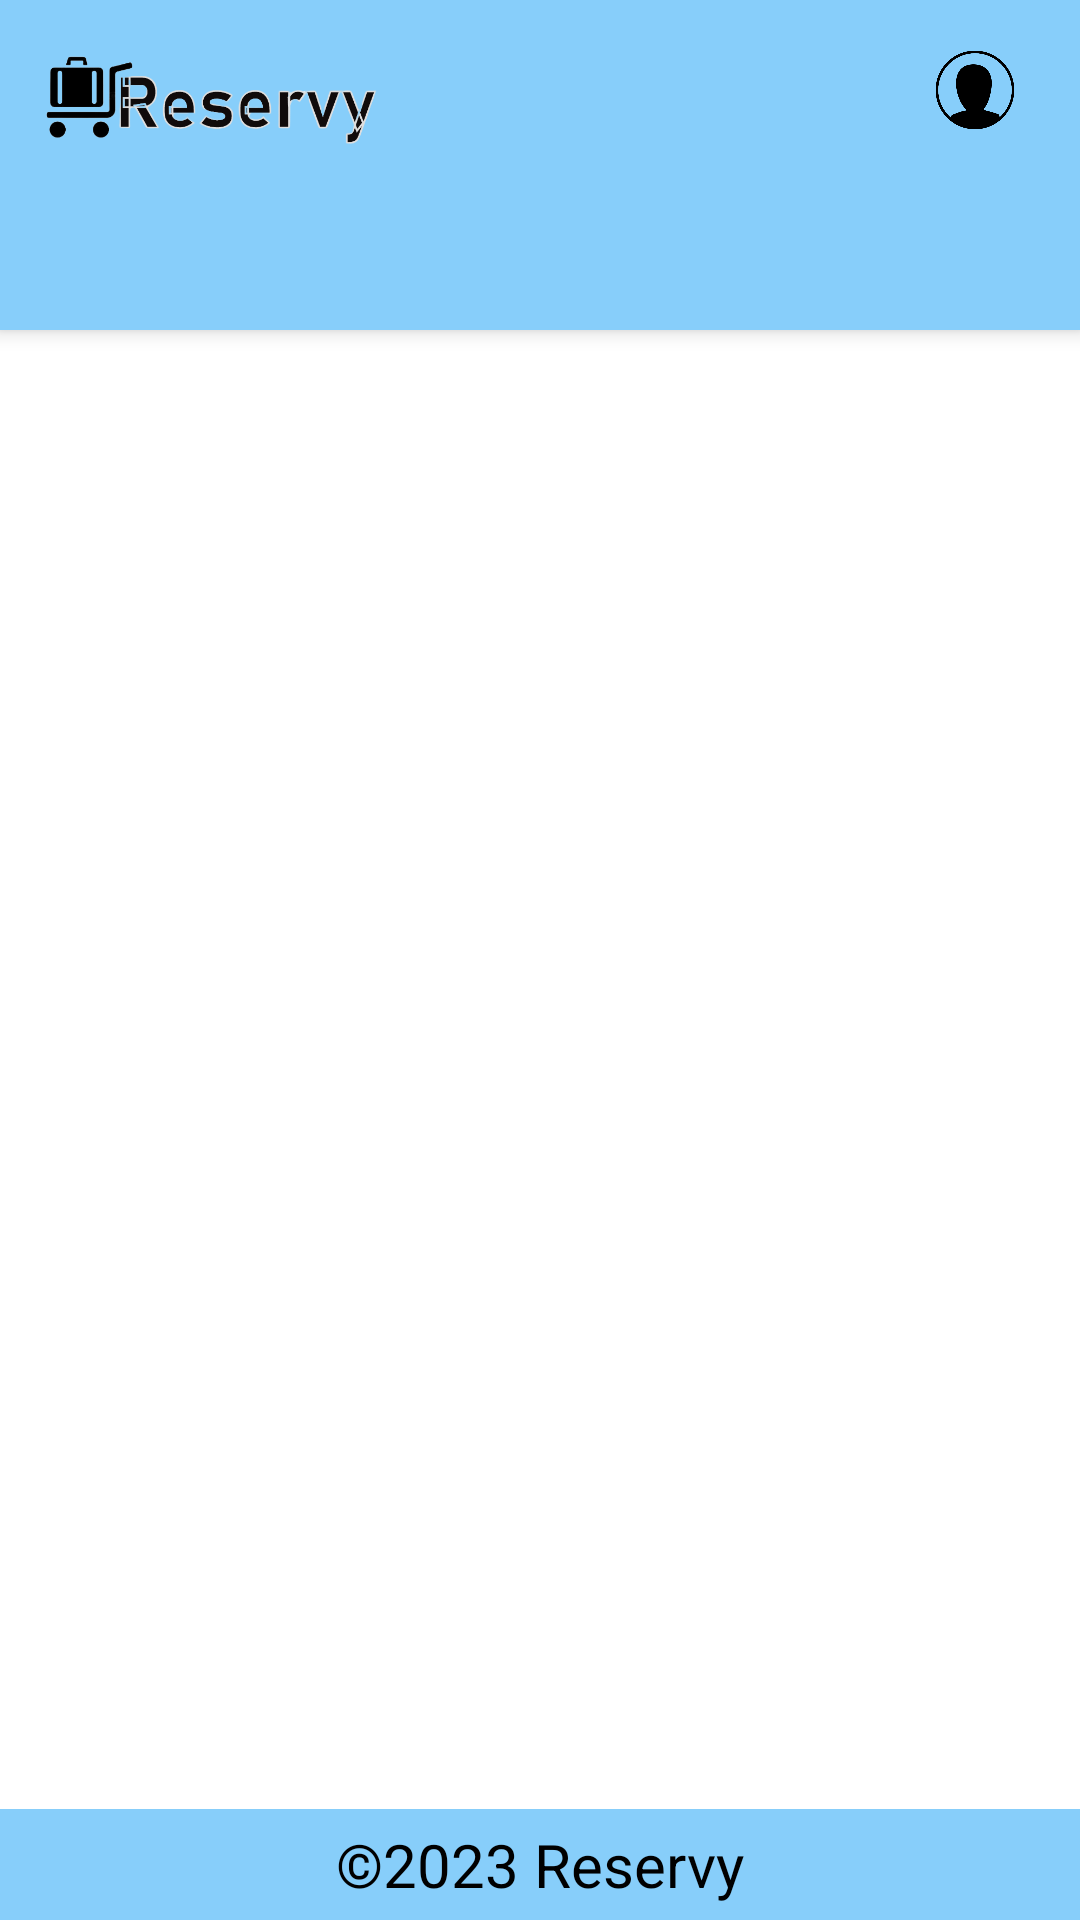

Named icons in this screenshot (1080×1920) and their centers, (x=x, y=y):
person: (x=975, y=90)
